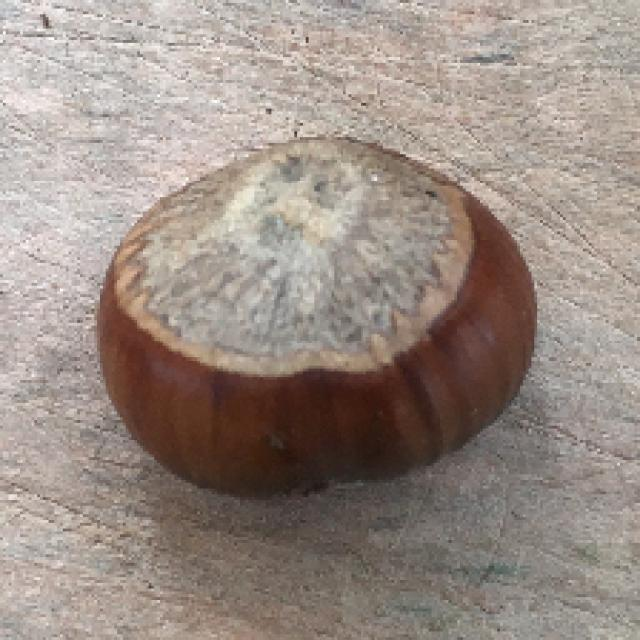qualityHazelnut: (101, 126, 535, 501)
